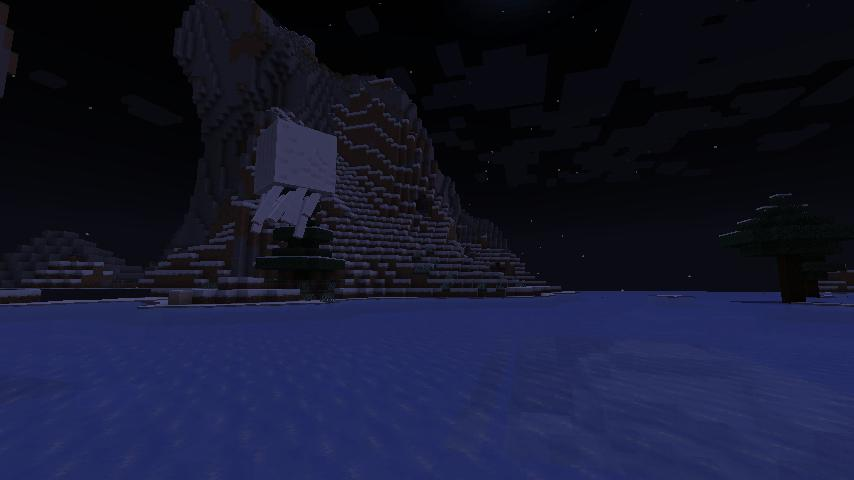ghast: (245, 117, 343, 242)
